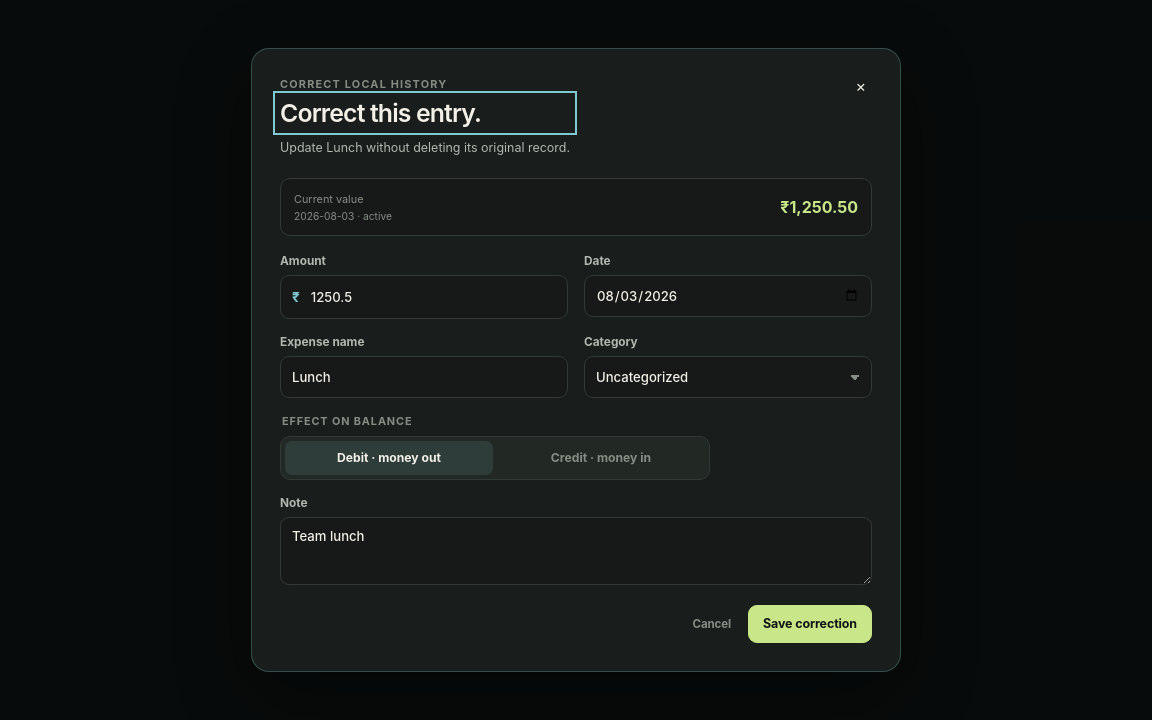
EntryLifecycleDialog › keeps the dialog open and preserves values when the service rejects a correction
This screenshot has width=1152, height=720.
Replace the text in the field named "Correction expense name" with "Still lunch" at [424, 377], box top-left (280, 356), bottom-right (568, 398)
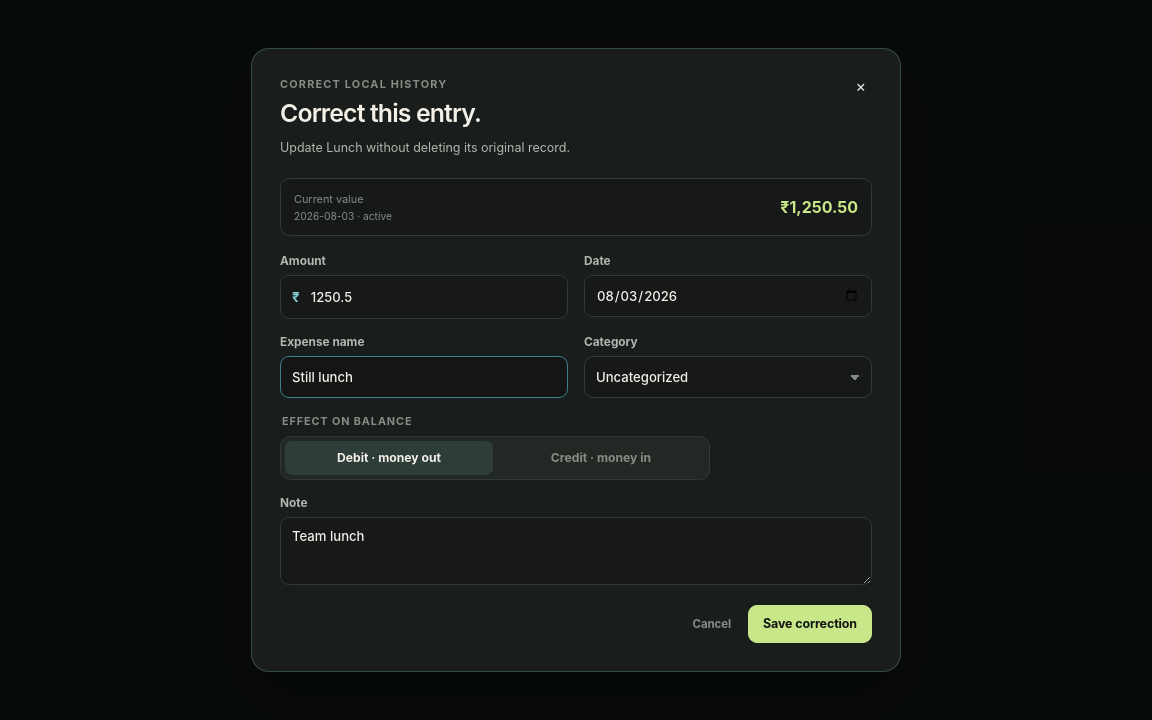
Click the button "Save correction" at [810, 624], box top-left (748, 605), bottom-right (872, 643)
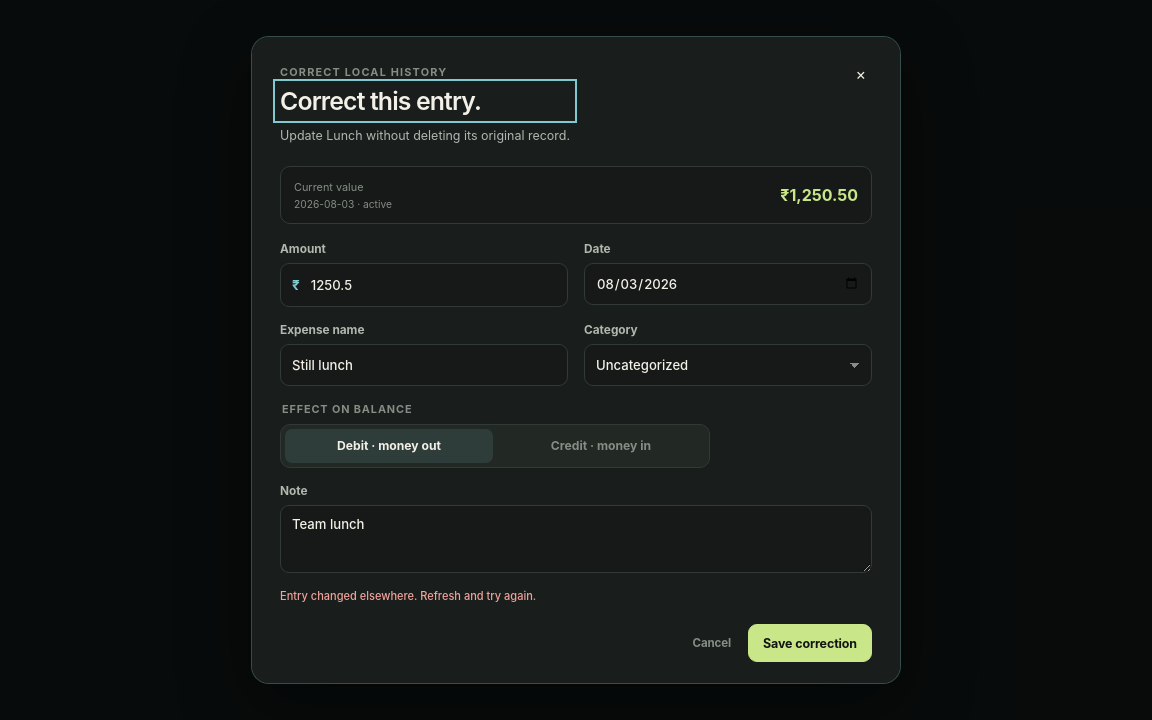
Expected: the dialog is shown, top-left (251, 36), bottom-right (901, 684)
Now the message shows "changed elsewhere", box top-left (280, 589), bottom-right (536, 603)
